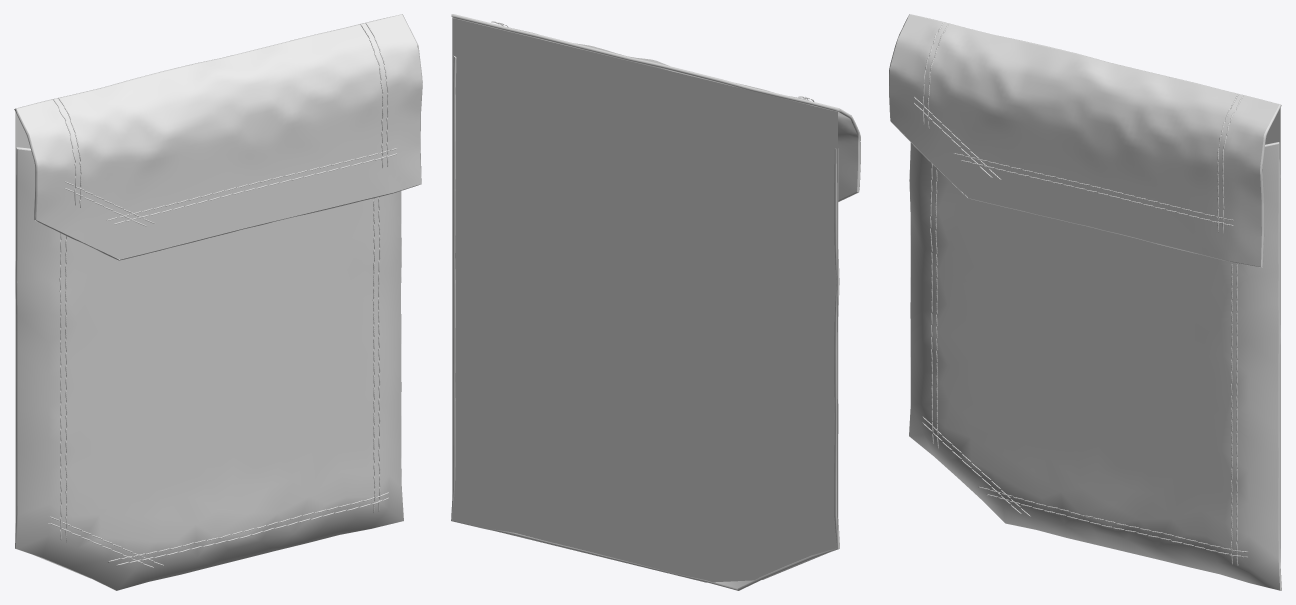
Rendered from pocket3.glb.
3 views of the same model, side by side, from view 1: azimuth 30°, elevation 25°; view 2: azimuth 150°, elevation 25°; view 3: azimuth 330°, elevation 25° (orthographic). The views are drawn at different scales.
Parts seen in each view (by area): view 1: Pattern_2550503_Node, Retopo_Pattern_2550504_Node, StitchMatShape_2751556_Node, Pattern_2533082_Node.005; view 2: Pattern_2533082_Node.005, Pattern_2550503_Node, Retopo_Pattern_2550504_Node; view 3: Pattern_2550503_Node, Retopo_Pattern_2550504_Node, StitchMatShape_2751556_Node, Pattern_2533082_Node.005.
Boxes of the visible parts, x1,y1,x2,y2 form: Pattern_2550503_Node: [15, 147, 403, 590]; Retopo_Pattern_2550504_Node: [14, 14, 422, 260]; StitchMatShape_2751556_Node: [48, 23, 397, 567]; Pattern_2533082_Node.005: [15, 112, 88, 577]; Pattern_2533082_Node.005: [452, 18, 837, 582]; Pattern_2550503_Node: [451, 56, 839, 590]; Retopo_Pattern_2550504_Node: [451, 14, 860, 201]; Pattern_2550503_Node: [909, 142, 1281, 590]; Retopo_Pattern_2550504_Node: [889, 14, 1281, 267]; StitchMatShape_2751556_Node: [914, 22, 1247, 565]; Pattern_2533082_Node.005: [1265, 108, 1280, 561].
Size of the model in its own units: 0.0594 by 0.0742 by 0.0065.
Materials: 5 (1 with a texture image).
